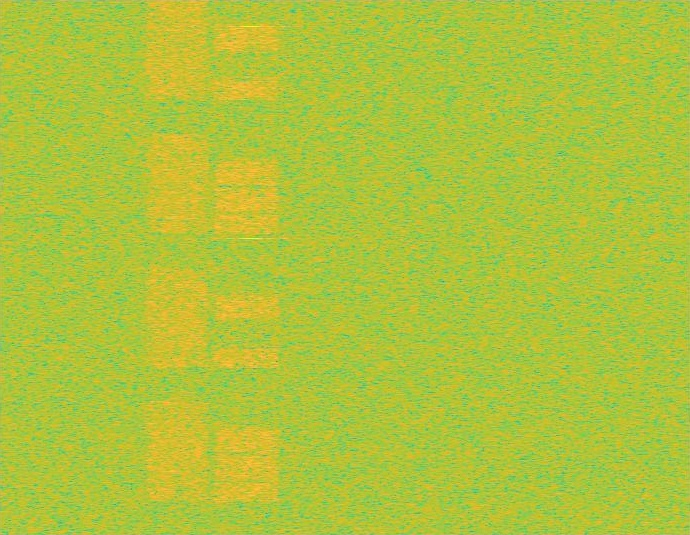5G: (143, 0, 212, 534)
LTE: (212, 0, 281, 534)
Radar: (244, 0, 258, 534)
